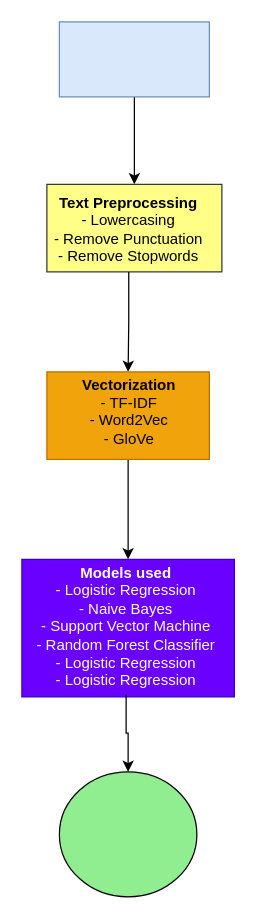
The diagram is 256 pixels wide and 919 high, and some of its shapes have lost their labels. The centre of each missing label's shape, as x and y in pixels:
Prediction Positive / Negative: point (127, 834)
Raw Text Reviews: point (133, 59)
